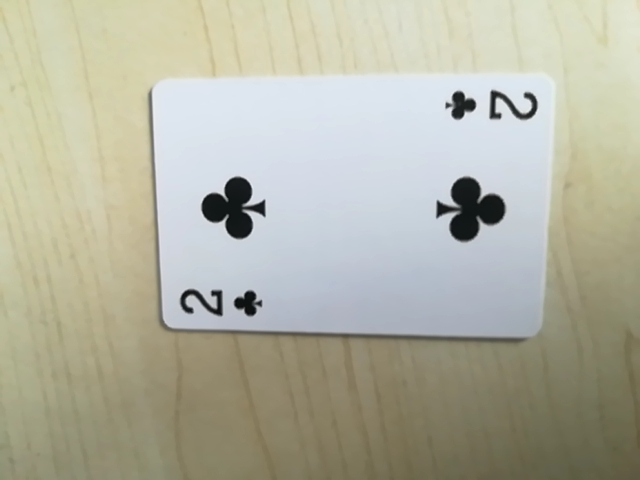mh 2: (441, 82, 542, 129), (171, 285, 268, 326)
